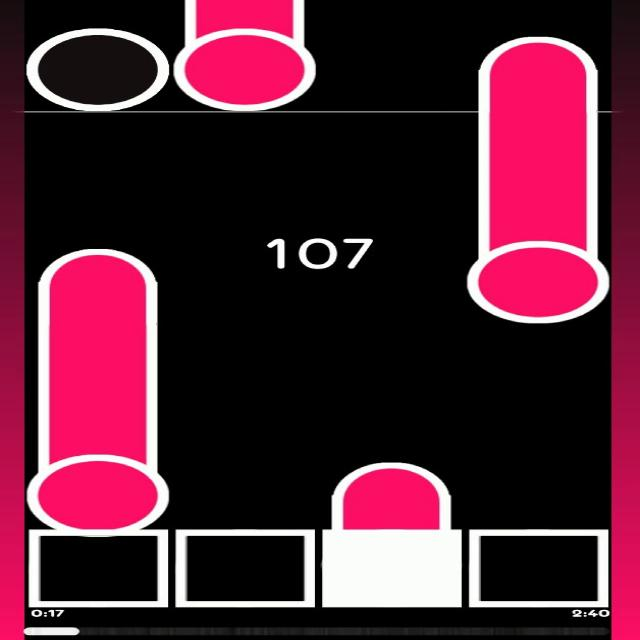end_hold: (35, 239, 160, 293), (478, 27, 598, 75), (331, 452, 457, 496)
note: (26, 28, 170, 111)
start_hold: (469, 230, 610, 324), (27, 444, 172, 533), (175, 23, 319, 111)
